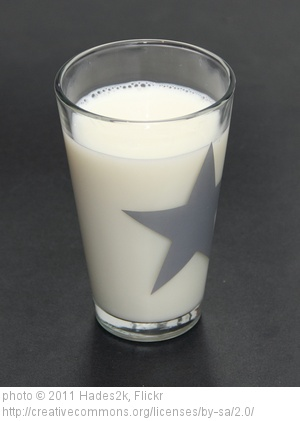glass of milk: (73, 89, 205, 338)
